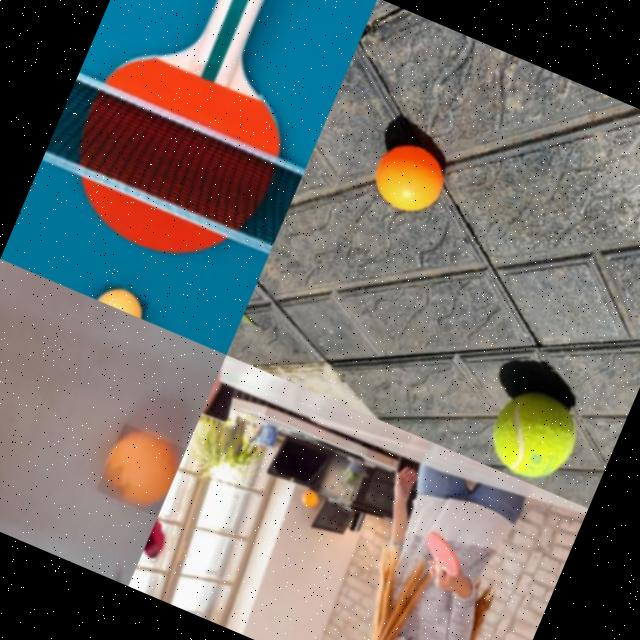ping-pong-ball: (93, 418, 186, 516), (366, 134, 454, 222), (96, 280, 150, 318), (298, 486, 324, 510)
